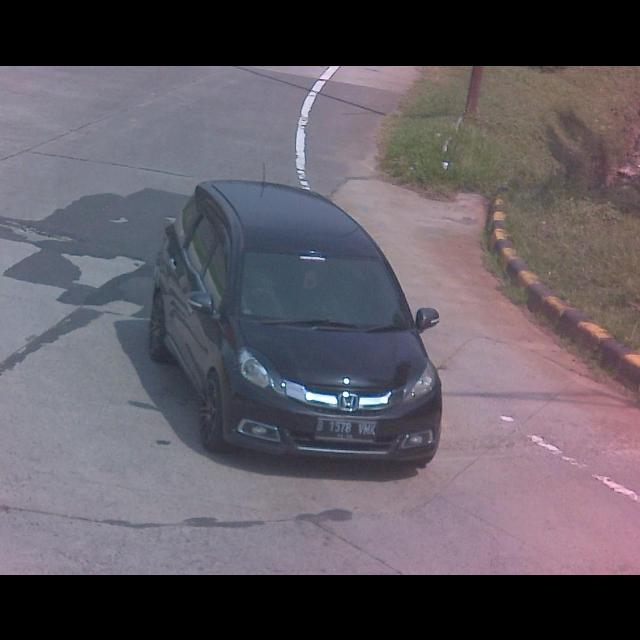plate: (316, 416, 378, 442)
